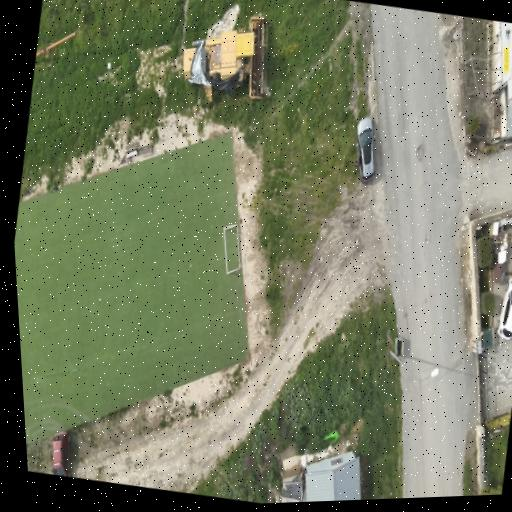car: (357, 117, 375, 182), (497, 278, 511, 339), (52, 432, 70, 476)
harvester: (182, 15, 267, 100)
